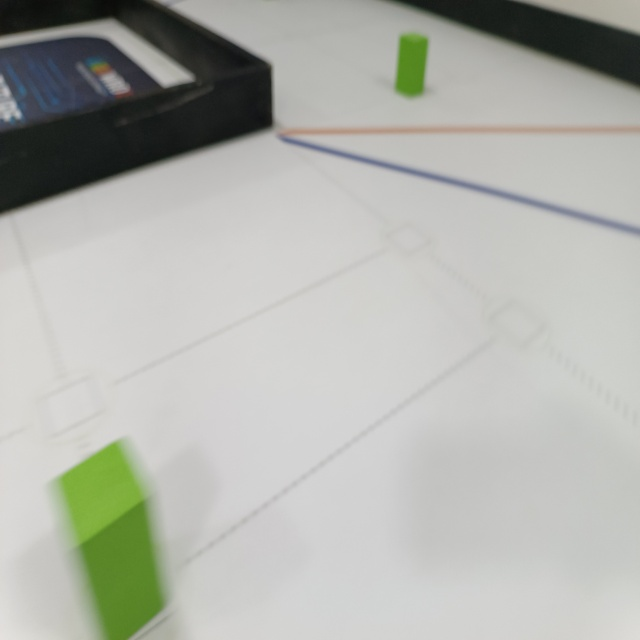blue line: (271, 136, 640, 236)
green rectangular prism: (52, 441, 166, 640), (392, 31, 431, 96)
orange line: (276, 125, 640, 137)
